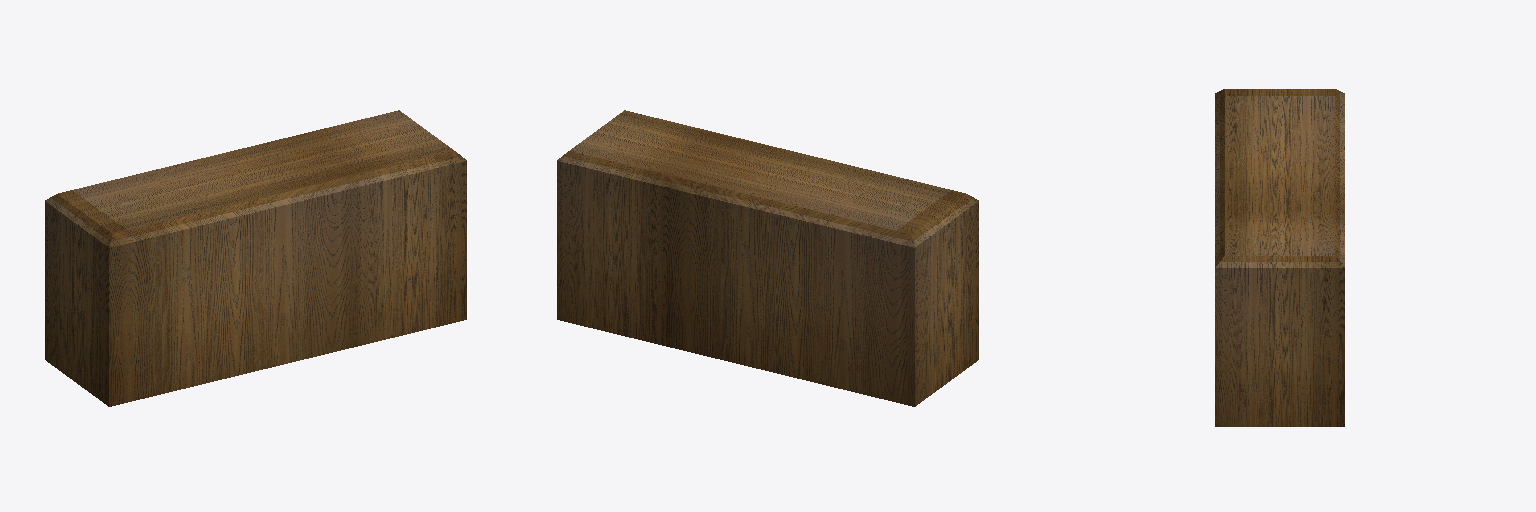
3 renders of one model, left to right at view 1: azimuth 30°, elevation 25°; view 2: azimuth 150°, elevation 25°; view 3: azimuth 270°, elevation 25°, orthographic.
Parts seen in each view (by area): view 1: Box104; view 2: Box104; view 3: Box104.
Boxes of the visible parts, box(x1,y1,x2,y2) form: Box104: box(45, 110, 466, 406); Box104: box(557, 110, 978, 406); Box104: box(1215, 89, 1344, 426).
Size of the model in its own units: 88.09 by 39.37 by 27.56.
Materials: 1 (1 with a texture image).